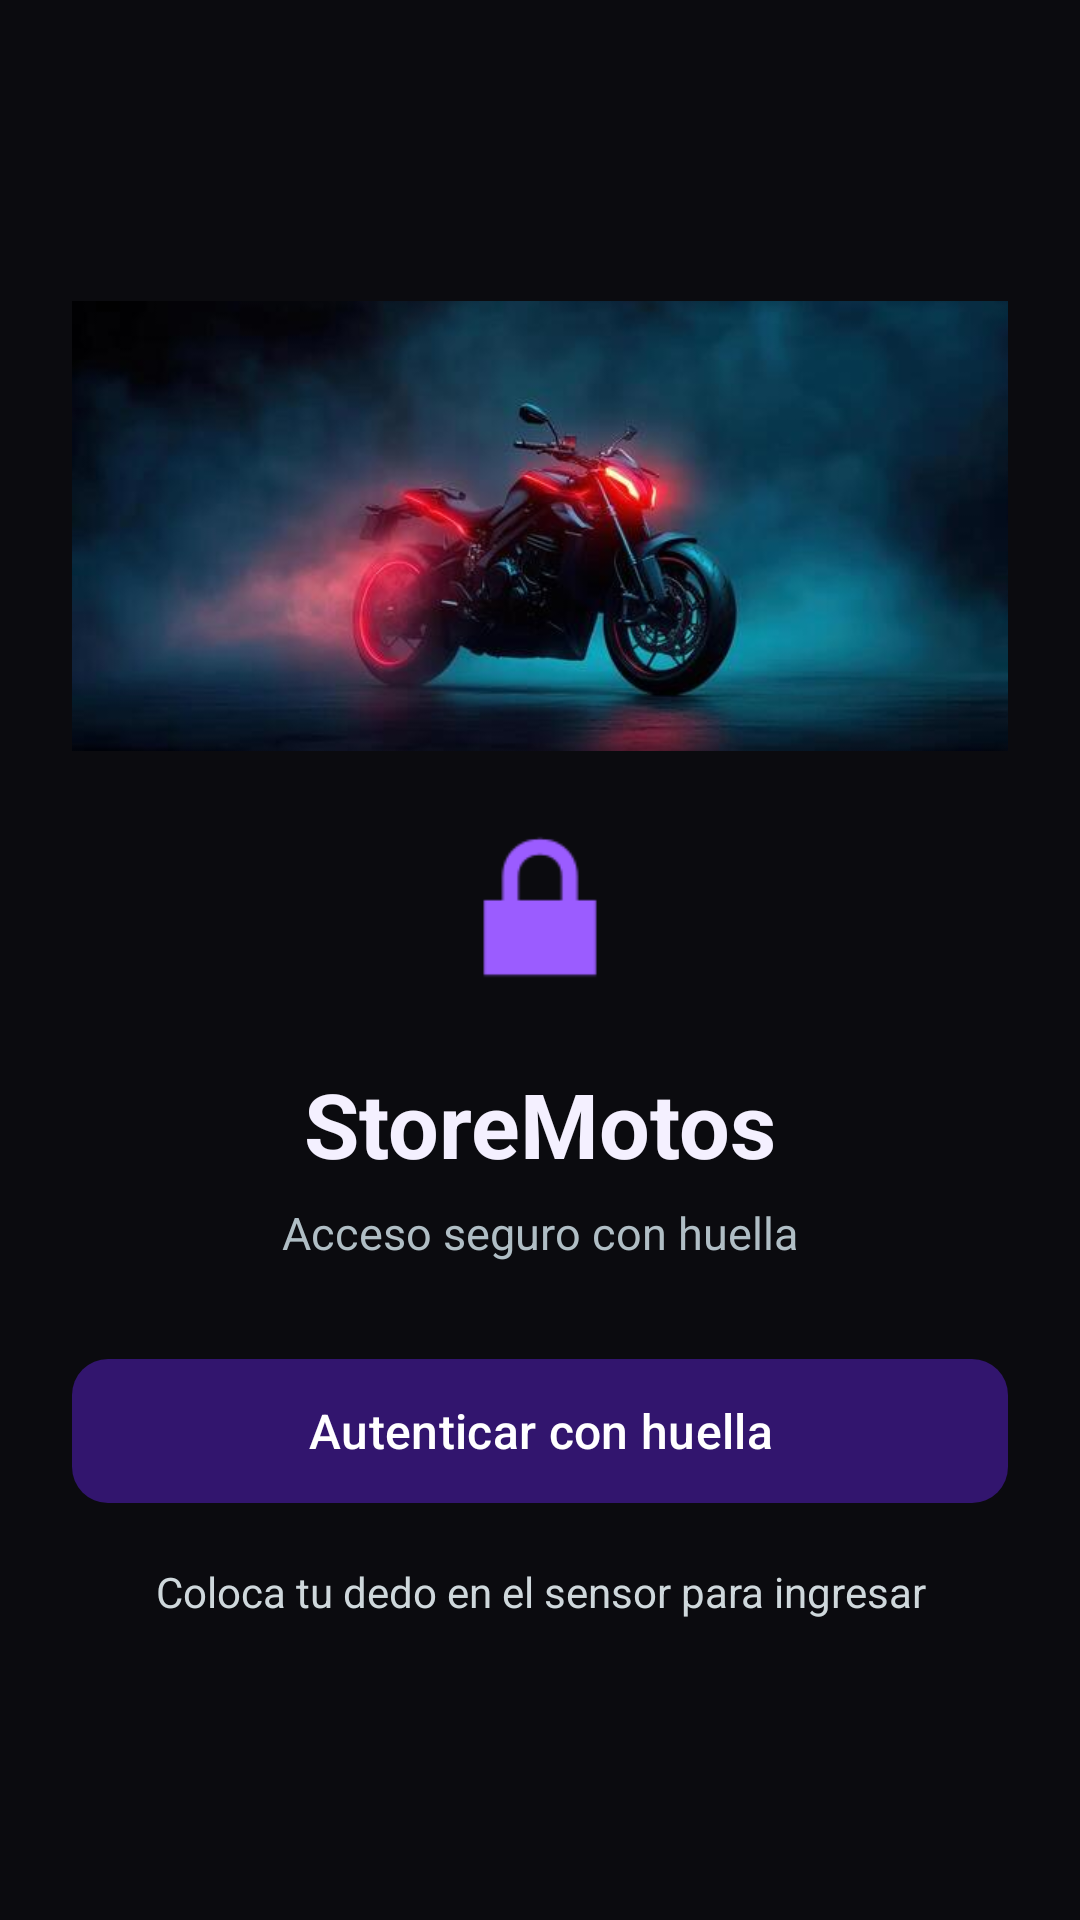

Screen size 1080px x 1920px. Icon name, then its center in pixels as point (x, y):
lock: point (540, 907)
